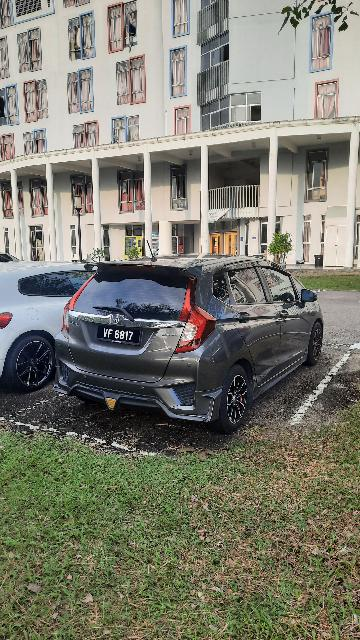License_Plate: (90, 320, 152, 348)
car: (65, 256, 328, 434)
